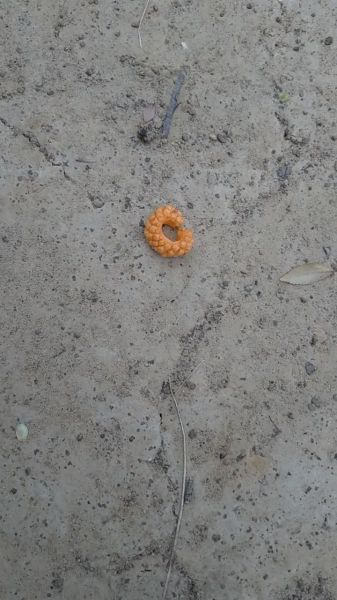eggs: (139, 199, 191, 262)
